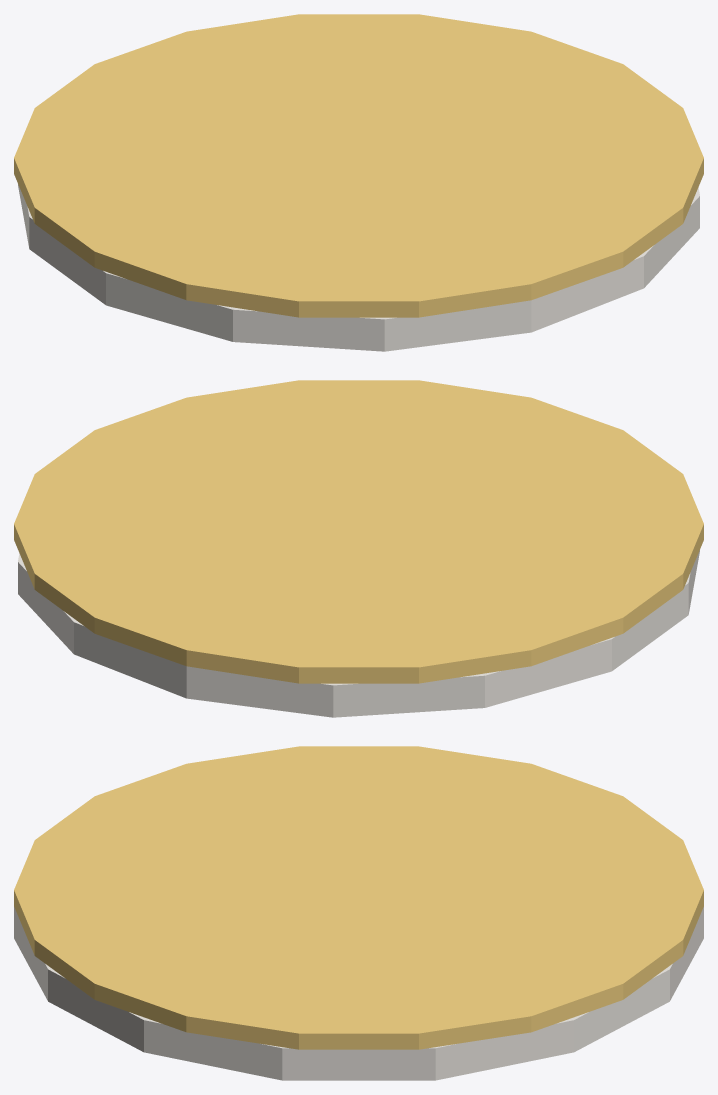
Rendered from galaxy_tray.glb.
The picture shows the model from 3 angles, top to bottom: view 1: azimuth 30°, elevation 25°; view 2: azimuth 150°, elevation 25°; view 3: azimuth 270°, elevation 25°; orthographic projection.
Parts seen in each view (by area): view 1: galaxy_tray.001; view 2: galaxy_tray.001; view 3: galaxy_tray.001.
Boxes of the visible parts, box(x1,y1,x2,y2) form: galaxy_tray.001: box(14, 14, 703, 351); galaxy_tray.001: box(14, 380, 703, 717); galaxy_tray.001: box(14, 746, 703, 1080).
Size of the model in its own units: 3.05 by 0.24 by 3.1.
